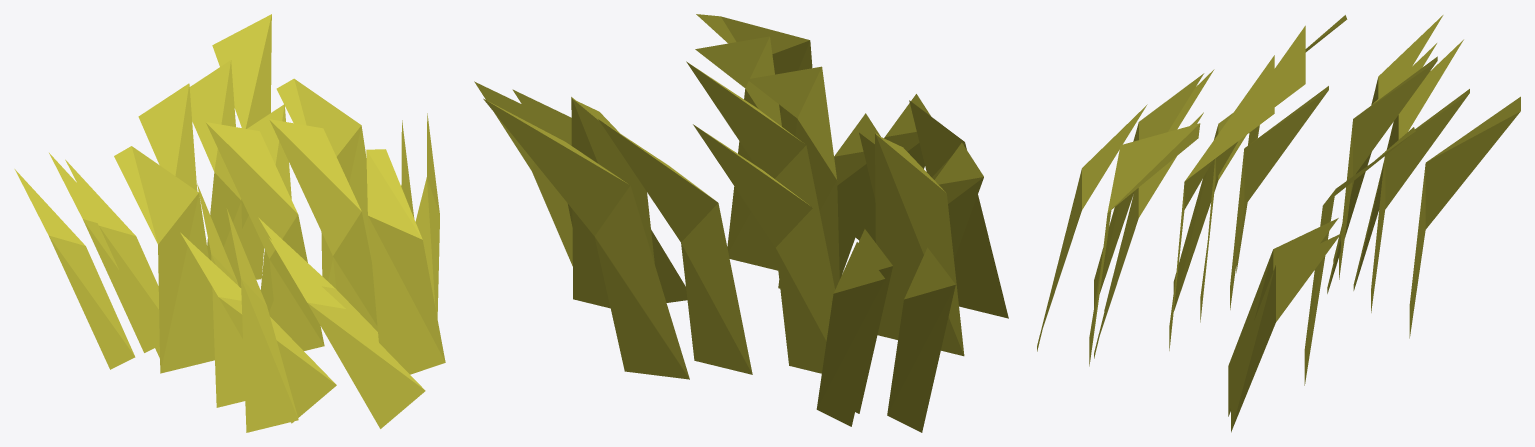
The model's file is Grass.FBX.
3 renders of one model, left to right at view 1: azimuth 30°, elevation 25°; view 2: azimuth 150°, elevation 25°; view 3: azimuth 270°, elevation 25°, orthographic. The views are drawn at different scales.
Visible parts, largest first — view 1: Grass_Dense, Grass_Med, Grass_Thin; view 2: Grass_Dense, Grass_Med, Grass_Thin; view 3: Grass_Dense, Grass_Med, Grass_Thin.
Part boxes in pixels (x1,y1,x2,y2): Grass_Dense: [14, 14, 445, 432]; Grass_Med: [49, 60, 378, 407]; Grass_Thin: [65, 104, 414, 423]; Grass_Dense: [474, 14, 1008, 432]; Grass_Med: [598, 36, 885, 426]; Grass_Thin: [512, 61, 983, 413]; Grass_Dense: [1037, 15, 1520, 432]; Grass_Med: [1094, 39, 1469, 358]; Grass_Thin: [1104, 43, 1436, 416].
Size of the model in its own units: 1.71 by 1.09 by 1.61.
1 material, 1 textured.
